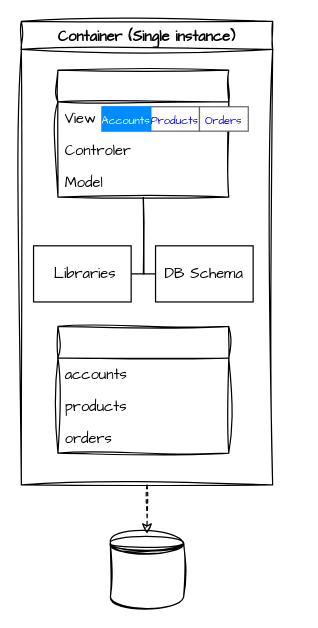
This 318x628 diagram has some shape labels left out. The box of each missing label's shape, as (x1, y1, x2, y2) in pixels:
DB: (109, 533, 184, 607)
MVC: (57, 69, 229, 197)
Services: (57, 325, 229, 453)
